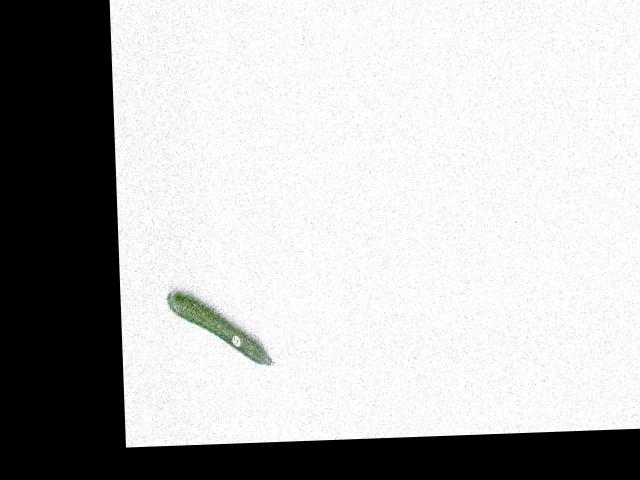cucumber: (167, 288, 275, 369)
